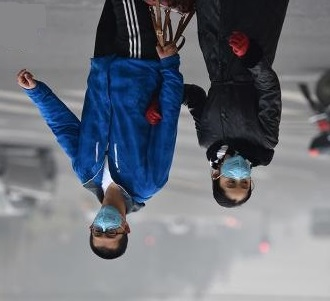person: (17, 1, 186, 262), (170, 3, 290, 209)
